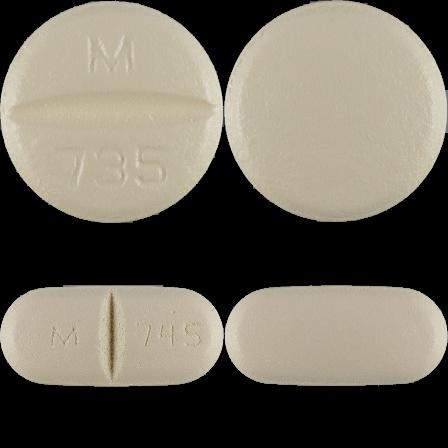0378-4735: (0, 0, 224, 224)
